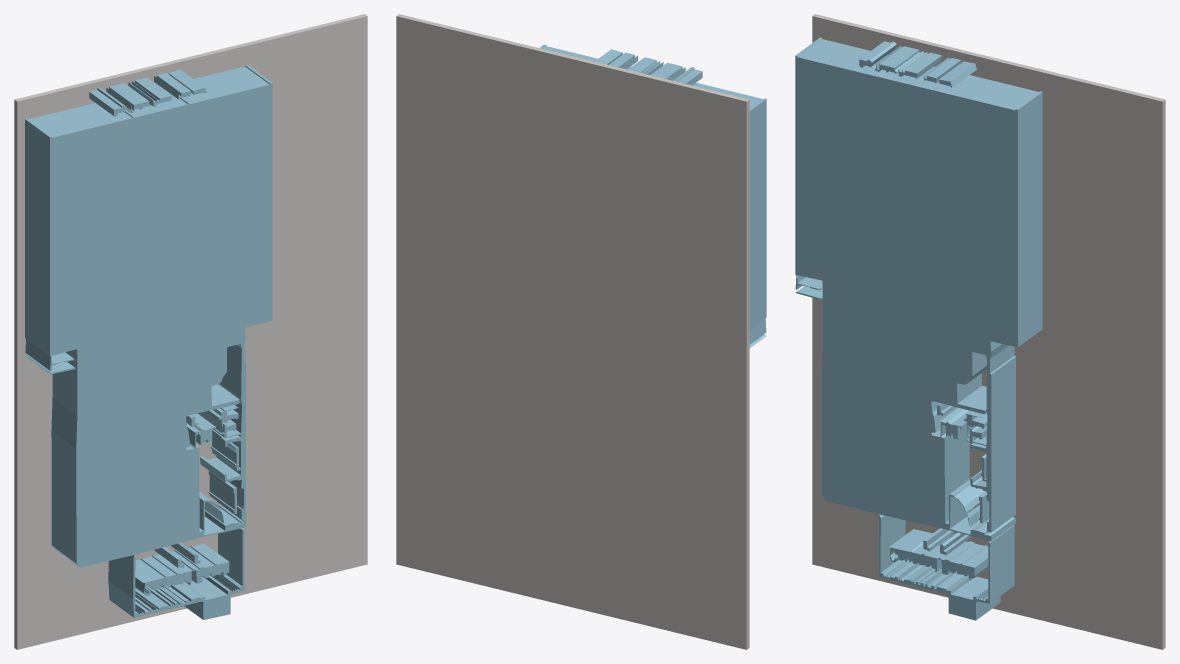
3 renders of one model, left to right at view 1: azimuth 30°, elevation 25°; view 2: azimuth 150°, elevation 25°; view 3: azimuth 330°, elevation 25°, orthographic.
Parts seen in each view (by area): view 1: world; view 2: world; view 3: world.
Part boxes in pixels (x1,y1,x2,y2): world: [14, 14, 367, 649]; world: [396, 14, 766, 649]; world: [795, 14, 1165, 649].
Size of the model in its own units: 10.23 by 15.29 by 1.4.
